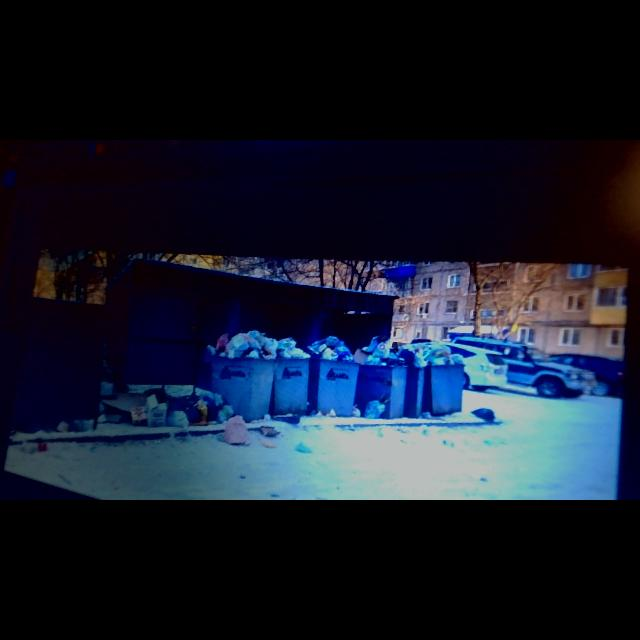Trash_Can_Full: (205, 331, 277, 423), (354, 334, 409, 420), (307, 334, 361, 416), (270, 336, 311, 414), (423, 342, 465, 416)
